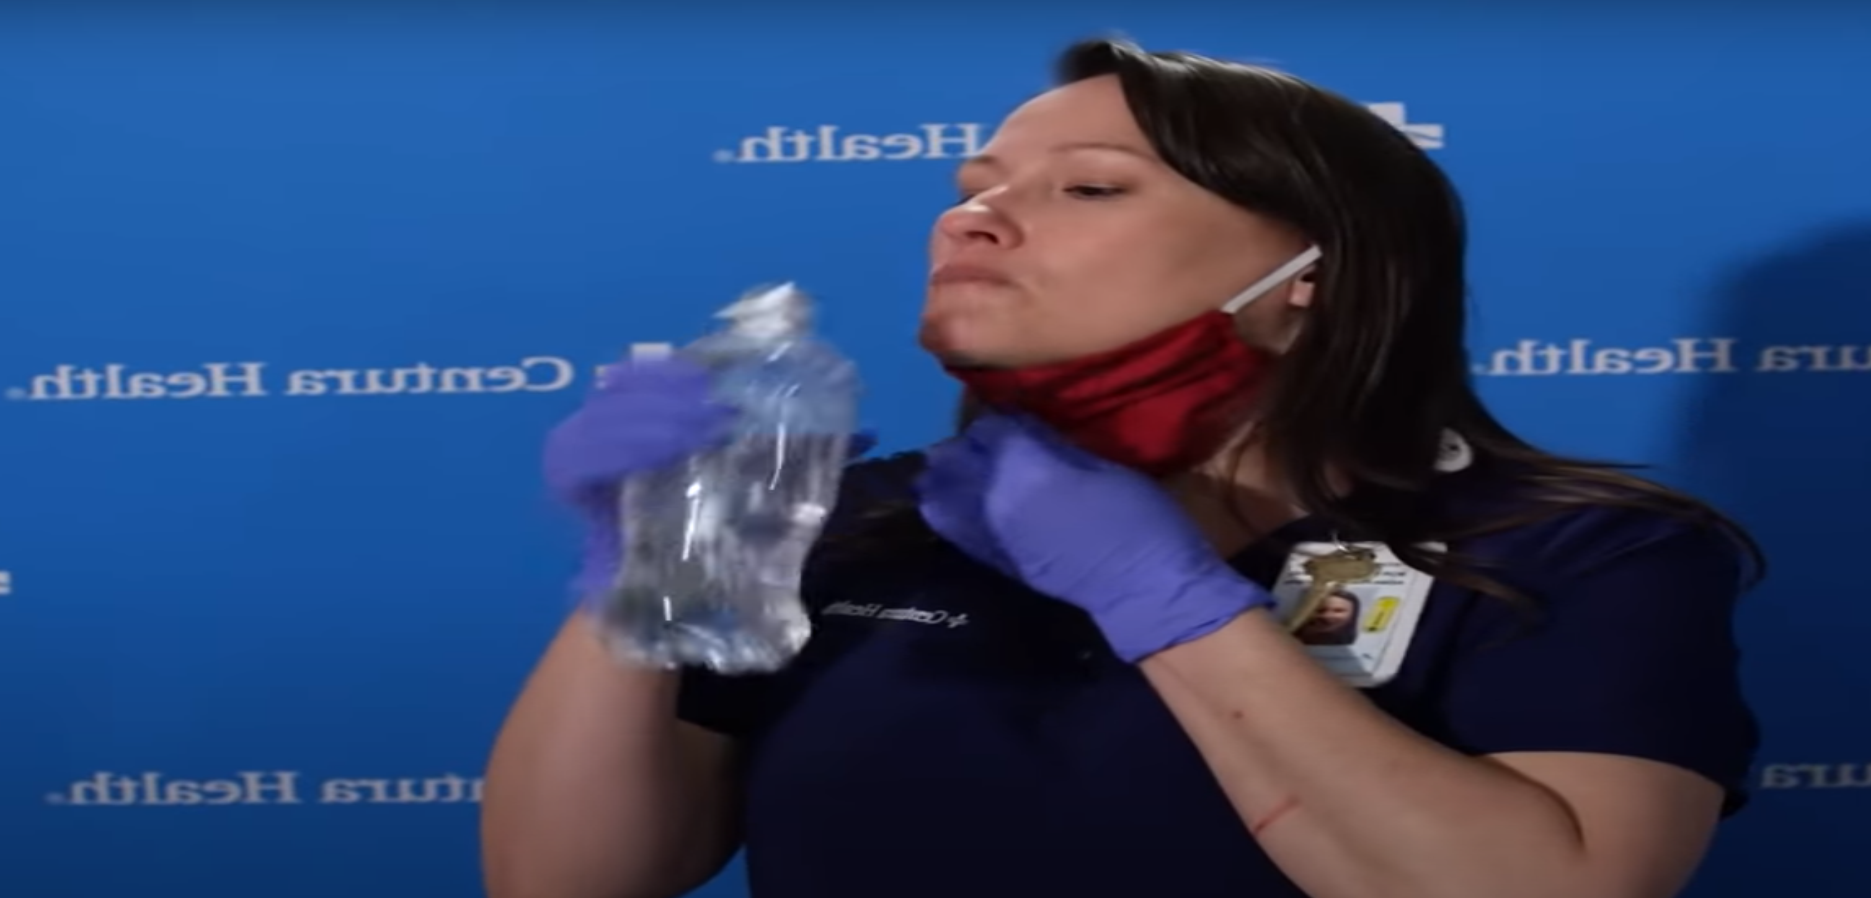mask_weared_incorrect: (916, 40, 1460, 477)
